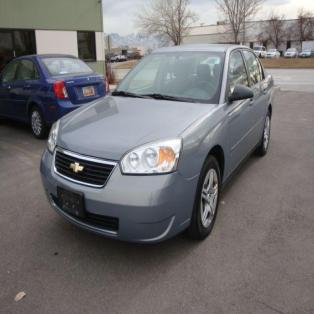Auto: (40, 44, 275, 243)
